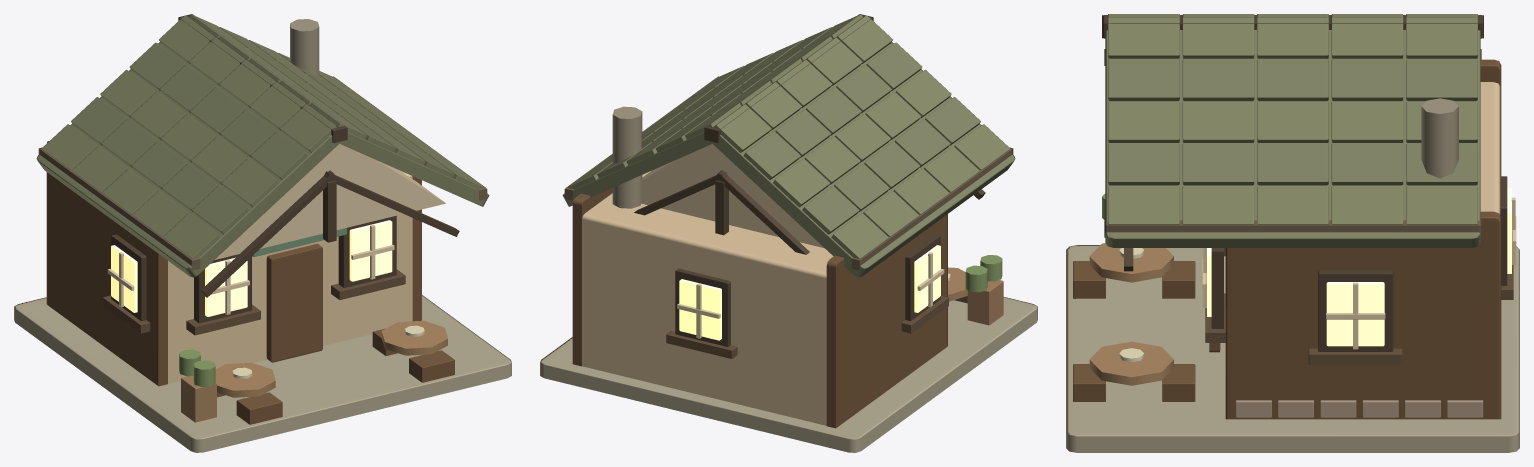
Rendered from restaurant-1.glb.
The picture shows the model from 3 angles, left to right: view 1: azimuth 30°, elevation 25°; view 2: azimuth 150°, elevation 25°; view 3: azimuth 270°, elevation 25°; orthographic projection. The views are drawn at different scales.
Parts seen in each view (by area): view 1: restaurant-1-0; view 2: restaurant-1-0; view 3: restaurant-1-0.
Boxes of the visible parts, x1=… form: restaurant-1-0: x1=14, y1=14, x2=511, y2=452; restaurant-1-0: x1=540, y1=14, x2=1037, y2=452; restaurant-1-0: x1=1066, y1=14, x2=1519, y2=452.
Bounding box in the file's own units: 2.9 × 2.41 × 2.9.
